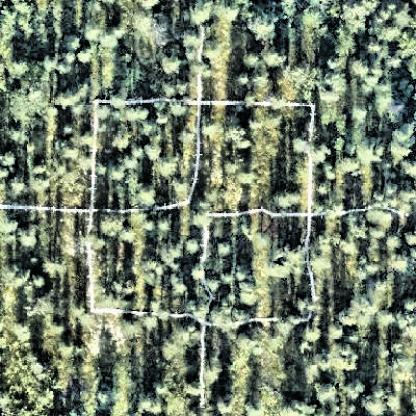tree-top: (266, 245, 306, 283), (135, 15, 173, 49), (343, 1, 379, 29), (322, 71, 349, 106), (290, 64, 324, 91), (12, 225, 40, 251), (248, 12, 275, 38), (190, 1, 220, 24), (259, 47, 287, 71), (273, 188, 303, 210), (205, 360, 228, 387), (45, 256, 69, 281), (137, 185, 162, 209), (158, 156, 182, 181), (248, 227, 271, 253), (395, 123, 416, 151), (160, 52, 185, 75), (185, 32, 208, 57), (344, 379, 367, 404), (392, 255, 413, 282), (364, 396, 392, 416), (316, 384, 342, 404), (59, 30, 81, 53), (304, 9, 327, 31), (368, 209, 392, 230), (342, 236, 362, 261), (301, 325, 321, 349), (239, 288, 259, 312), (237, 332, 257, 355), (338, 155, 362, 174), (164, 342, 183, 366), (340, 33, 359, 57), (8, 61, 27, 85), (380, 308, 397, 334), (144, 142, 164, 164), (104, 217, 124, 239), (228, 123, 250, 143), (207, 39, 226, 62), (389, 147, 410, 167), (255, 72, 274, 94), (130, 107, 153, 125), (208, 120, 229, 139), (173, 101, 194, 120), (86, 24, 104, 46), (1, 149, 18, 172), (353, 59, 370, 82), (352, 107, 371, 127), (185, 237, 204, 257), (12, 178, 30, 199), (395, 10, 413, 30), (61, 90, 79, 109), (330, 322, 349, 340), (63, 143, 81, 162), (275, 321, 292, 341), (74, 49, 92, 67), (234, 73, 253, 90), (31, 272, 45, 294), (388, 234, 405, 252), (103, 33, 121, 50), (193, 264, 209, 283), (378, 96, 392, 117), (236, 170, 254, 186), (115, 136, 131, 154), (163, 82, 180, 98), (216, 242, 231, 259), (405, 231, 416, 251), (403, 297, 416, 313)
